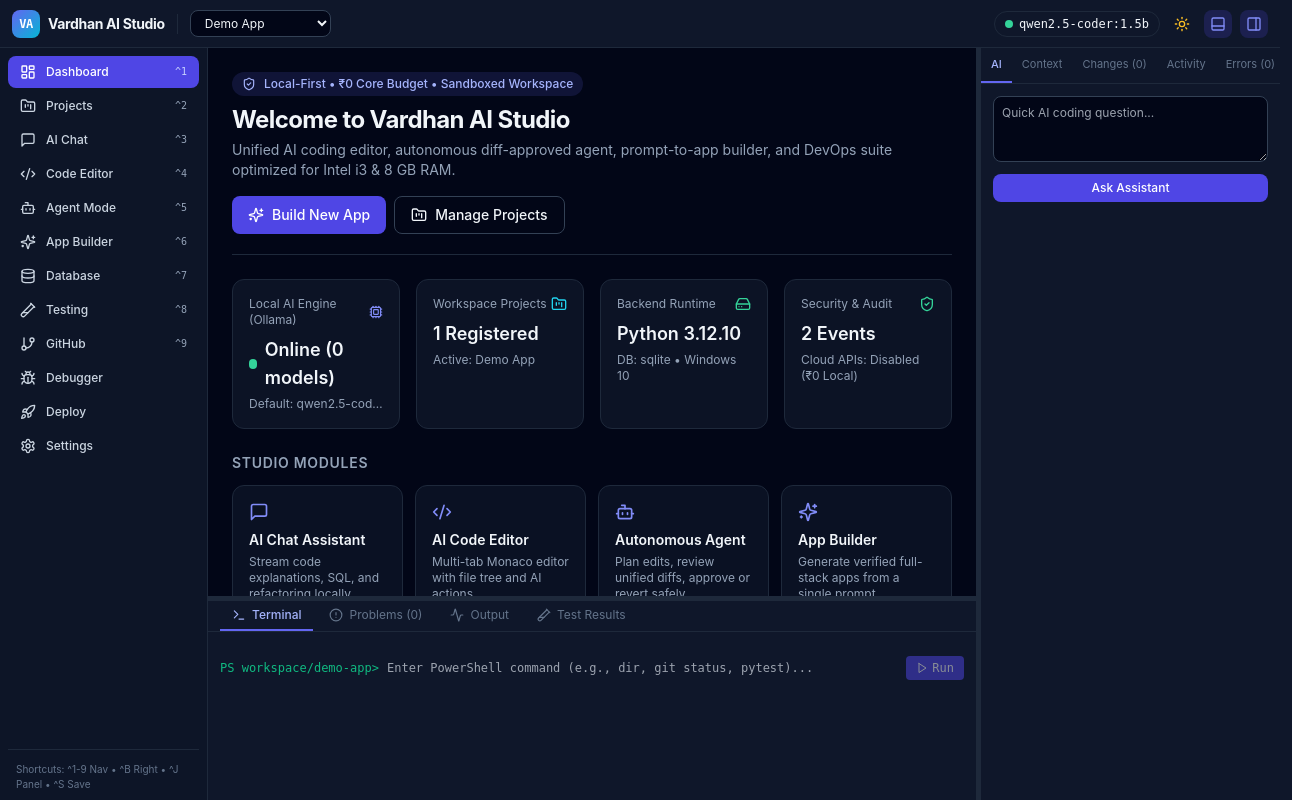
Vardhan AI Studio Frontend › renders dashboard, all primary navigation modules, and switches views cleanly
Check: the text "Vardhan AI Studio" is shown, box [48,14,165,34]
Check: the heading "Welcome to Vardhan AI Studio" is shown, box [232,105,570,134]
# Navigate to App Builder
Click the button "App Builder ^6" at (104, 242), box [8,226,199,258]
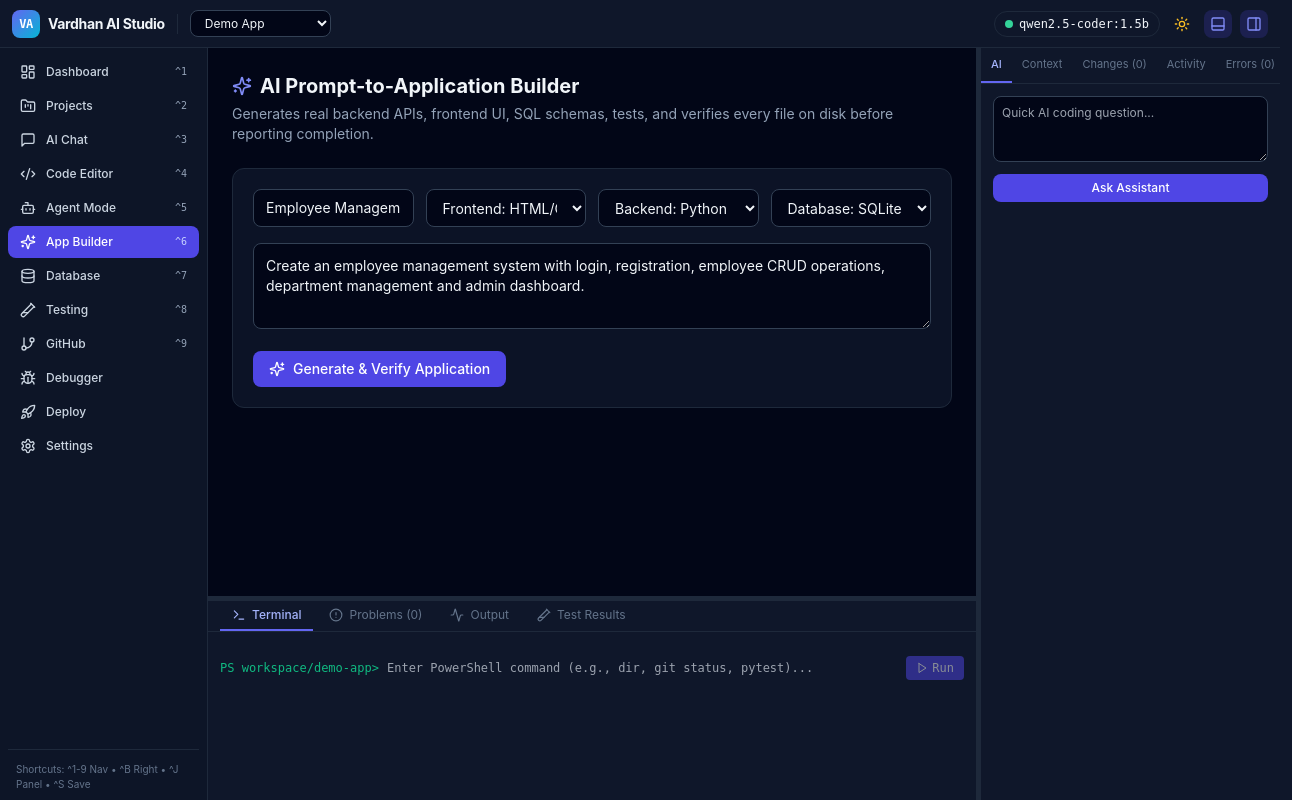
Check: the heading "AI Prompt-to-Application Builder" is shown, box [232,74,579,98]
# Navigate to Debugger
Click the button "Debugger" at (104, 378), box [8,362,199,394]
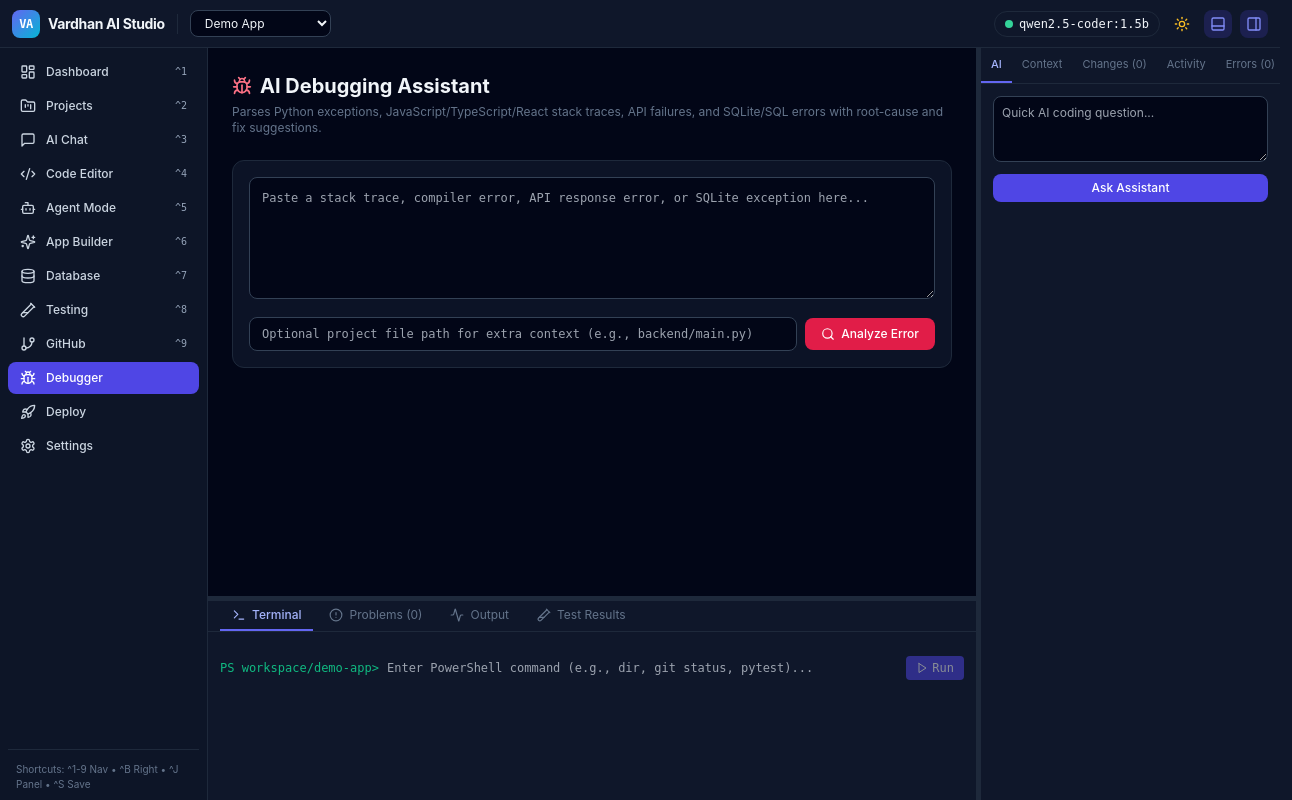
Check: the heading "AI Debugging Assistant" is shown, box [232,74,490,98]
# Navigate to Settings
Click the button "Settings" at (104, 446), box [8,430,199,462]
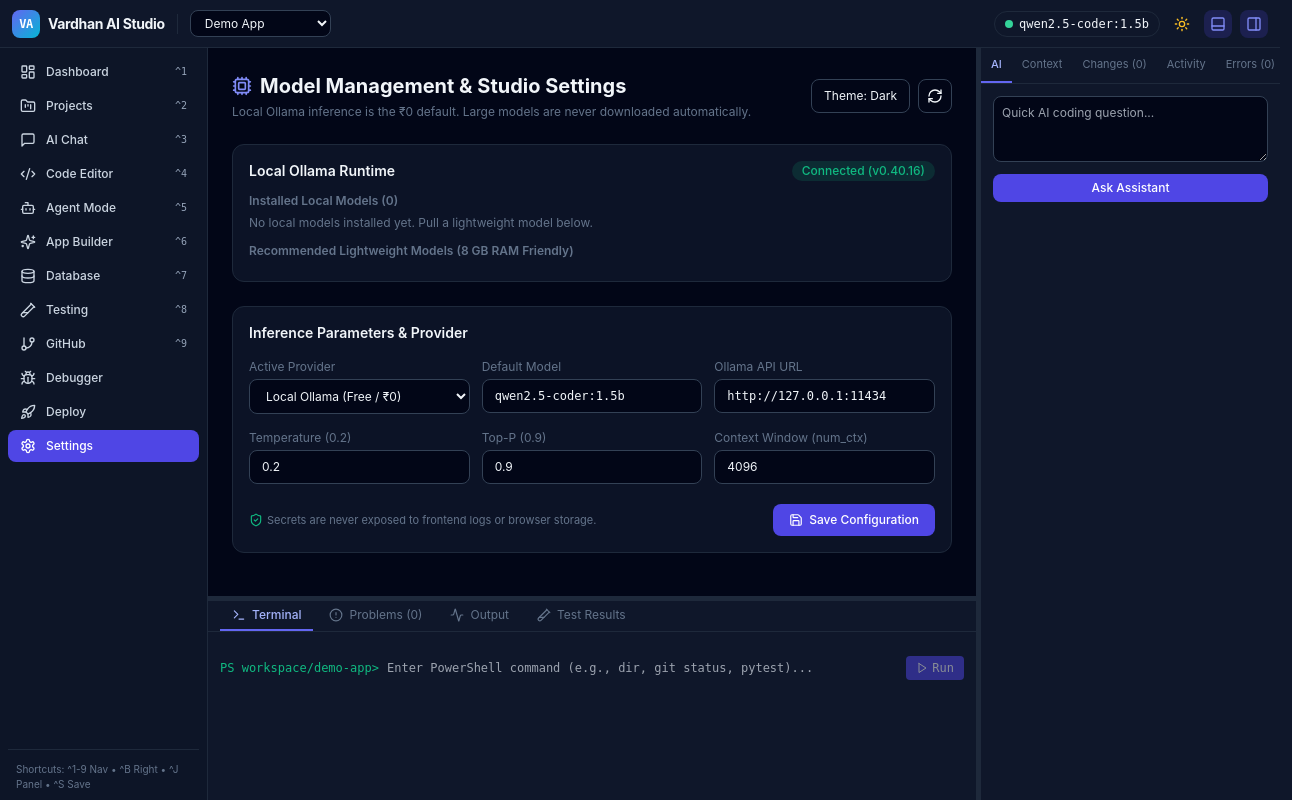
Check: the heading "Model Management & Studio Settings" is shown, box [232,74,626,98]
